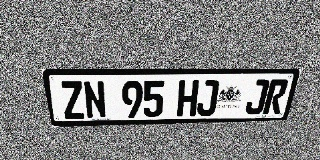5: (143, 80, 164, 117)
9: (122, 81, 143, 118)
H: (177, 80, 199, 116)
J: (244, 80, 270, 115), (196, 80, 220, 116)
N: (82, 81, 107, 119)
R: (262, 79, 289, 114)
Z: (59, 81, 86, 119)
